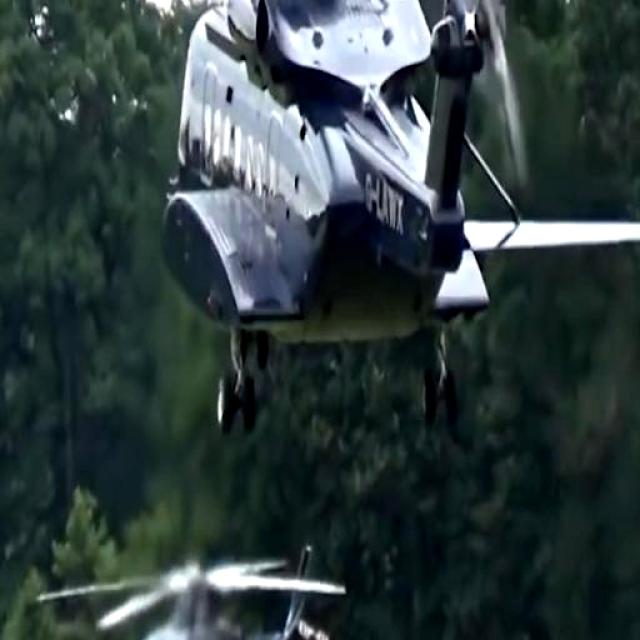drone: (0, 0, 640, 422), (54, 555, 336, 640)
